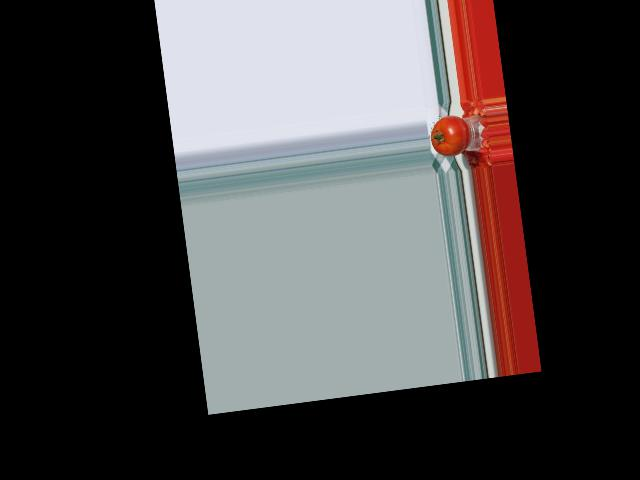tomato: (428, 112, 472, 158)
